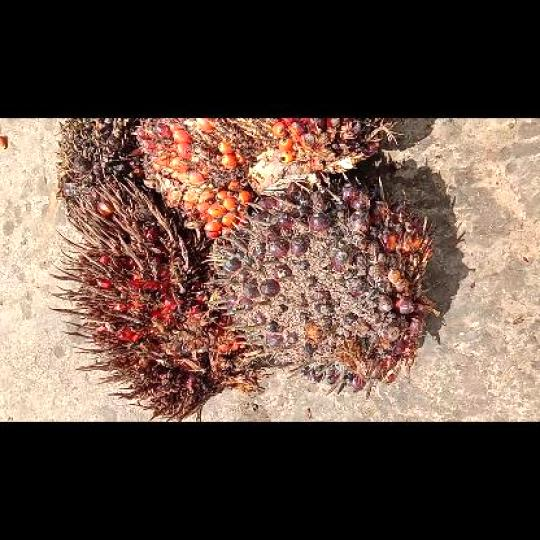kurang masak: (199, 173, 437, 396)
masak: (130, 118, 394, 238)
terlalu masak: (50, 182, 262, 420)
